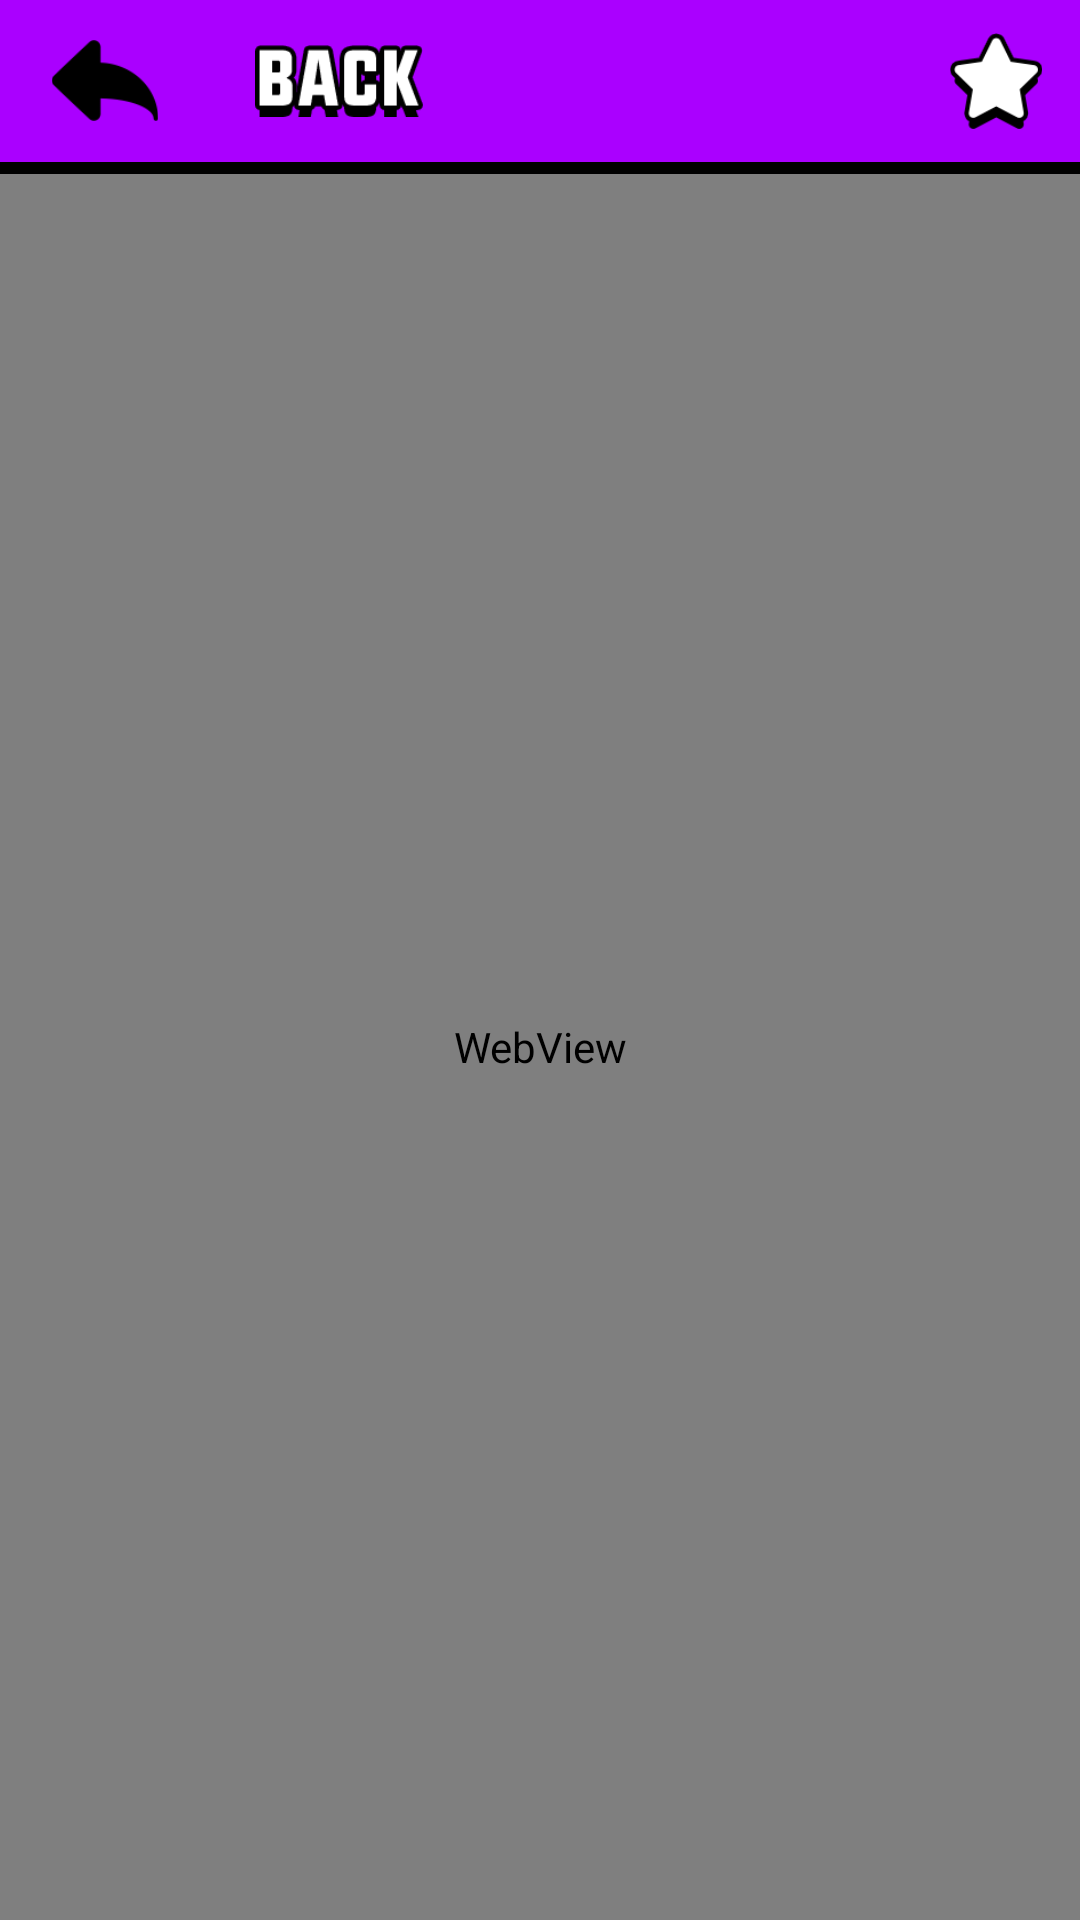

Icons on this 1080px x 1920px Android screen, each with the point to tap as (x,y):
back: (105,80)
rate: (996,81)
